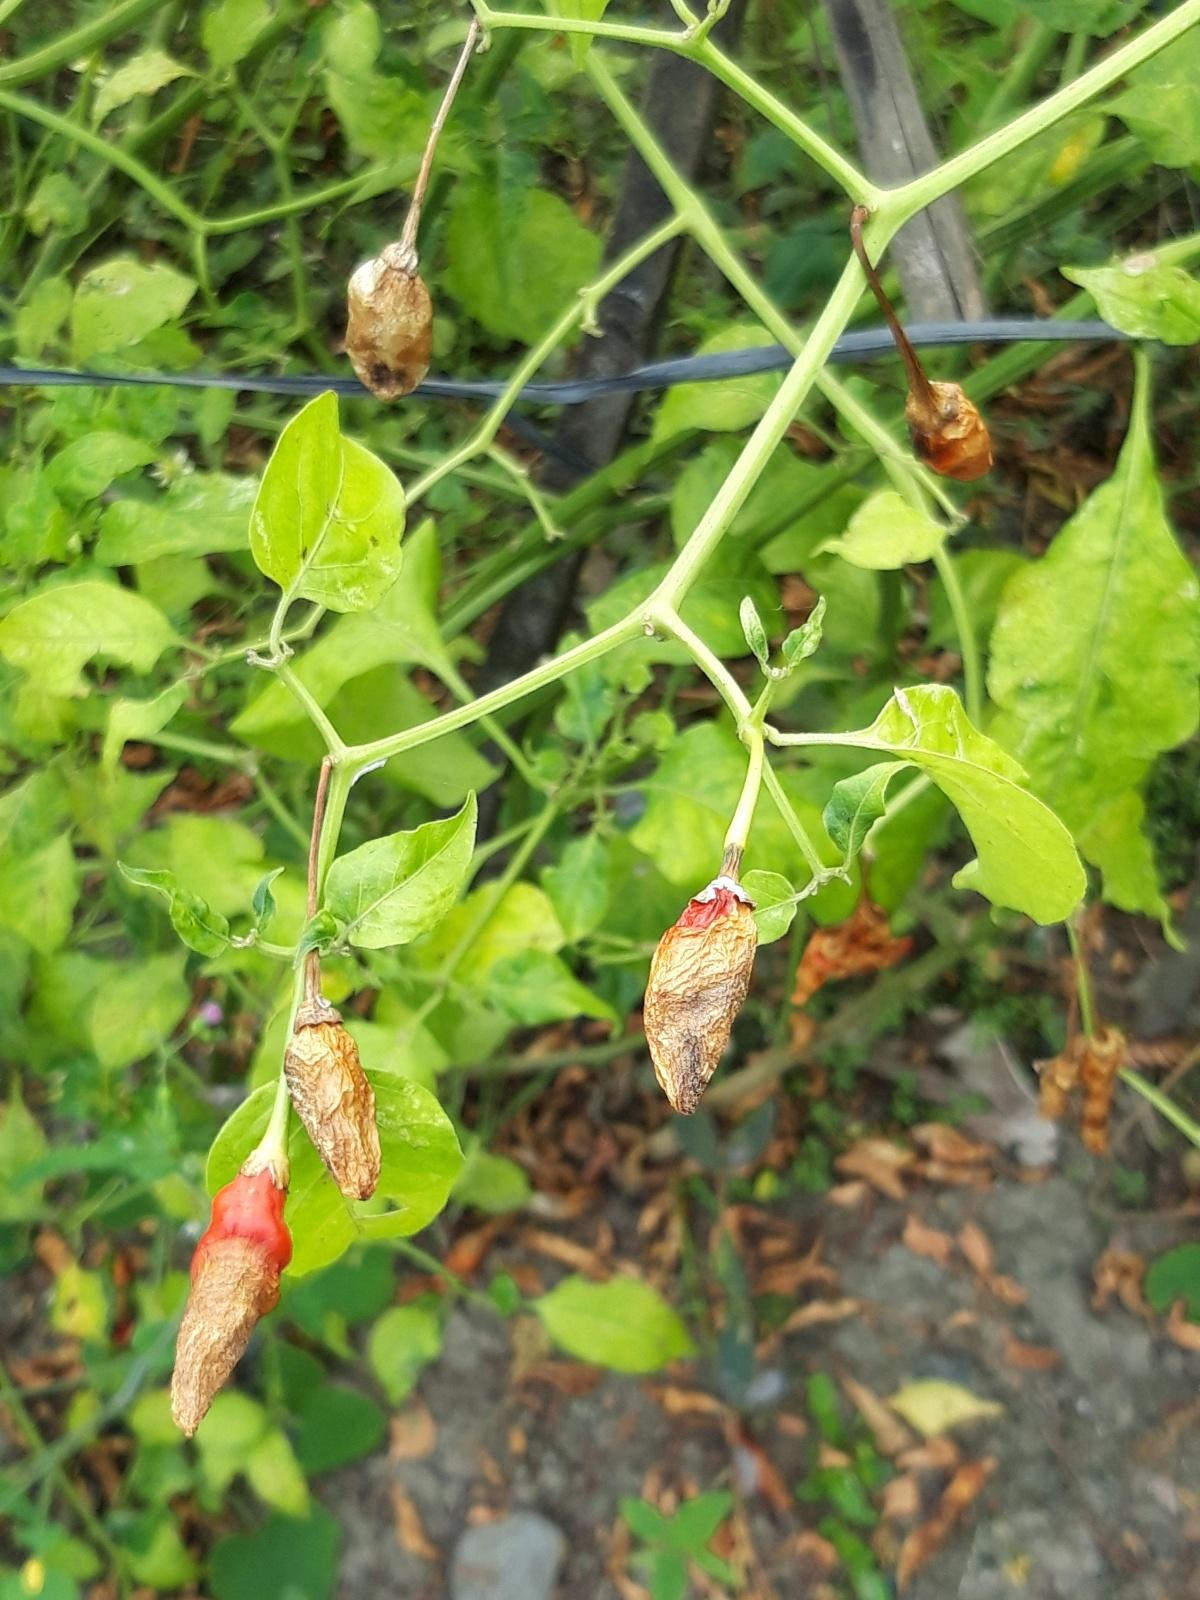antraknosa: (170, 1157, 294, 1436), (643, 876, 758, 1116), (284, 998, 382, 1202), (343, 243, 434, 398), (905, 382, 992, 481)
